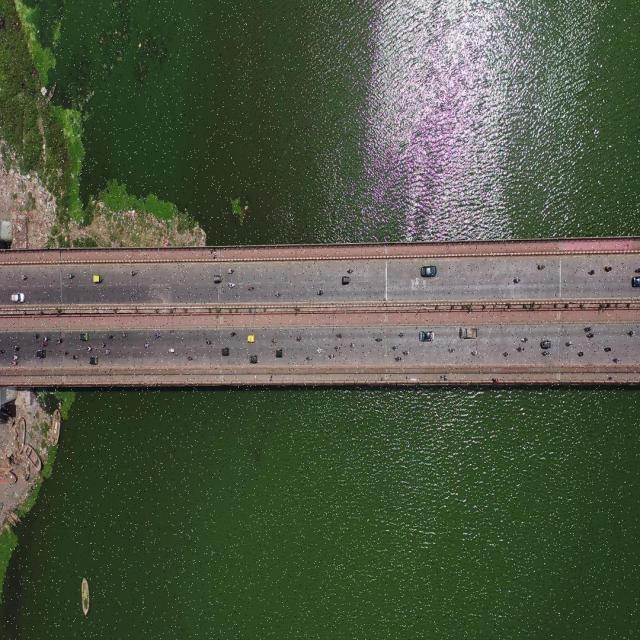3W: (91, 272, 108, 286), (538, 336, 554, 350), (219, 344, 232, 358), (34, 348, 47, 361), (340, 275, 353, 287), (250, 354, 260, 368), (275, 346, 286, 358), (247, 333, 256, 343), (214, 274, 222, 282)
Cars: (6, 289, 31, 308), (458, 323, 478, 342), (419, 262, 438, 281), (418, 329, 434, 342), (78, 328, 90, 344), (630, 276, 640, 288), (88, 358, 100, 367)
M2W: (228, 328, 240, 344), (584, 266, 598, 278), (470, 347, 481, 361), (128, 267, 138, 280), (55, 334, 65, 346), (539, 348, 551, 358), (604, 262, 614, 274), (626, 326, 636, 338), (204, 337, 213, 350), (143, 340, 151, 354), (515, 344, 526, 354), (446, 344, 455, 356), (536, 264, 548, 273), (601, 344, 613, 353), (66, 270, 76, 280), (120, 330, 130, 340), (398, 330, 407, 341), (10, 358, 18, 370), (186, 353, 194, 365), (611, 355, 623, 363), (12, 343, 21, 353), (13, 353, 23, 362), (247, 284, 257, 293), (31, 331, 40, 340), (86, 345, 95, 354), (374, 335, 383, 344), (227, 264, 235, 274), (306, 354, 314, 364), (584, 322, 592, 332), (63, 348, 69, 360), (328, 350, 336, 359), (404, 348, 413, 356), (503, 349, 511, 358), (20, 272, 27, 282), (270, 337, 280, 344), (395, 354, 402, 364), (170, 346, 176, 357), (565, 339, 573, 347), (100, 341, 107, 350), (316, 288, 325, 295), (73, 354, 79, 364), (108, 332, 114, 342), (348, 341, 355, 349), (521, 336, 528, 344), (578, 350, 585, 358), (42, 337, 53, 342), (333, 345, 342, 351), (512, 278, 521, 284), (104, 349, 111, 356), (315, 345, 322, 352), (390, 344, 397, 351), (156, 329, 162, 337), (585, 334, 594, 339), (296, 335, 302, 342), (335, 332, 342, 338), (41, 342, 47, 348), (275, 290, 280, 297), (349, 269, 353, 276), (229, 283, 235, 287)
